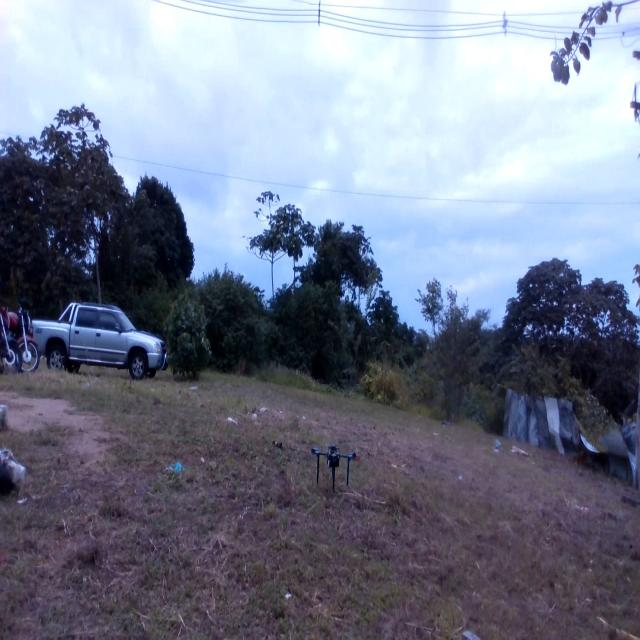-uav-: (298, 433, 372, 496)
